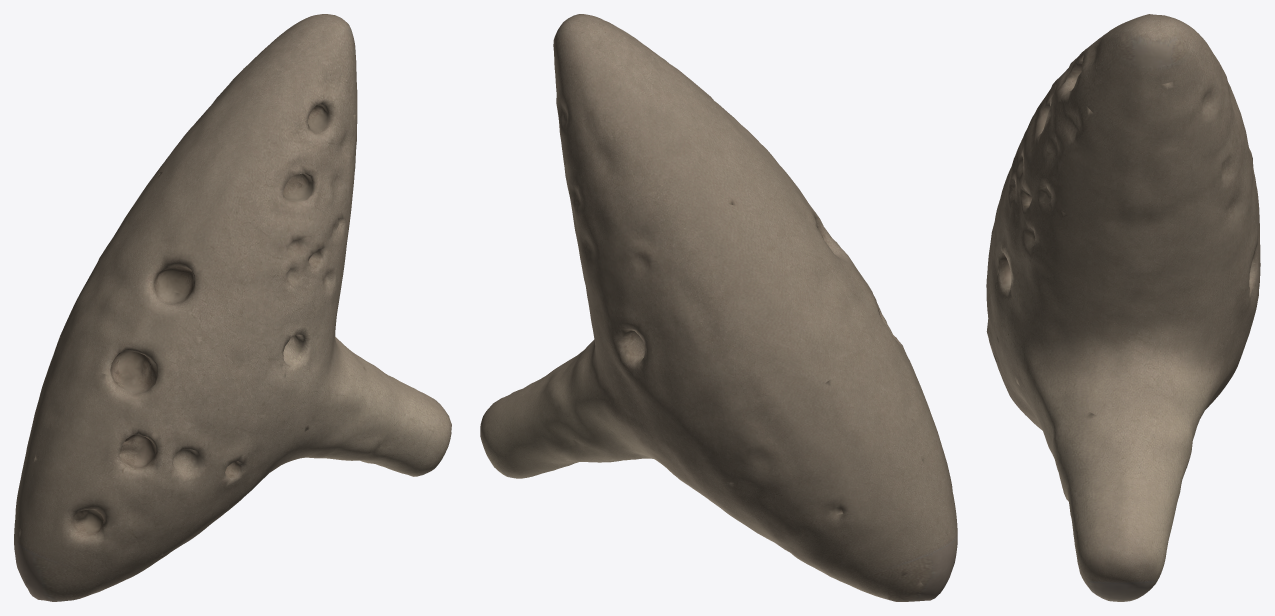
Rendered from ocarina.glb.
3 renders of one model, left to right at view 1: azimuth 30°, elevation 25°; view 2: azimuth 150°, elevation 25°; view 3: azimuth 270°, elevation 25°, orthographic. The views are drawn at different scales.
Size of the model in its own units: 1.84 by 2 by 0.8648.
1 material, 1 textured.
